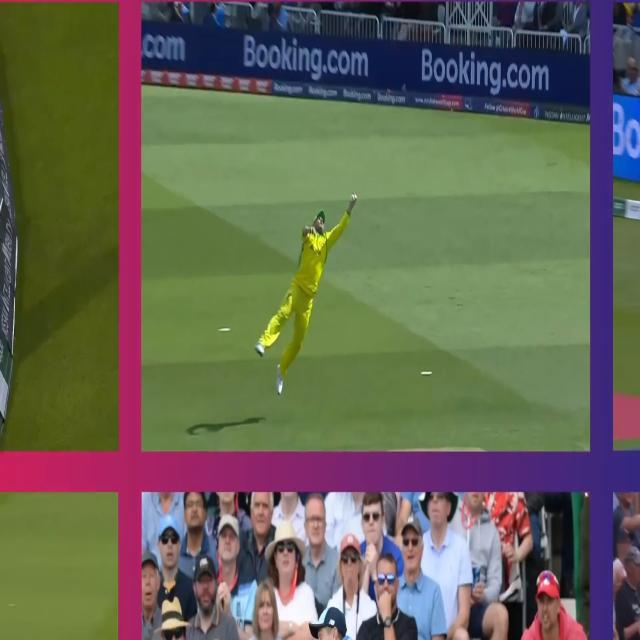ball: (350, 189, 360, 210)
